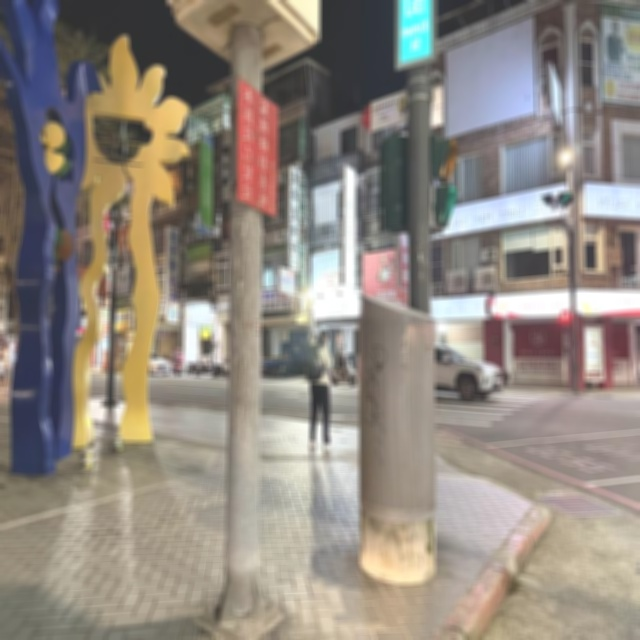Sin_Casco_Mascarrilla: (317, 329, 329, 343)
